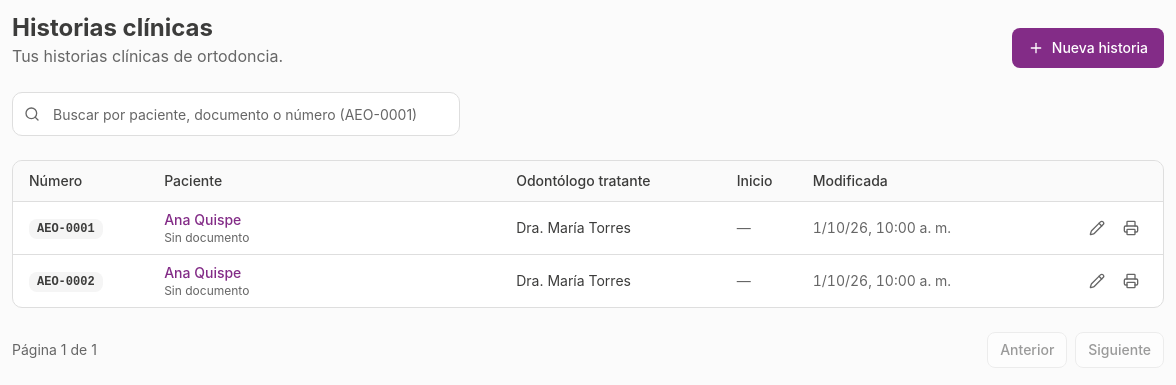
Scenario: orthodontic-records — Listado y búsqueda de historias › busca mientras se escribe (con espera) y envía el término al servidor
Expected: the row "AEO-0002" is shown, x1=13 y1=254 x2=1163 y2=306
In the search field named "Buscar historias": [236, 114] box x1=12 y1=92 x2=460 y2=136, type "quispe"
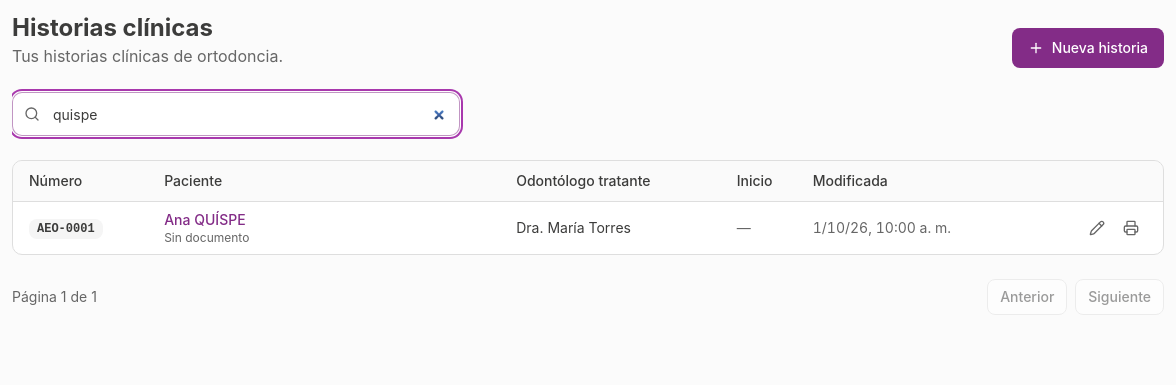
Now the text "Ana QUÍSPE" is shown, box x1=164 y1=210 x2=246 y2=228
